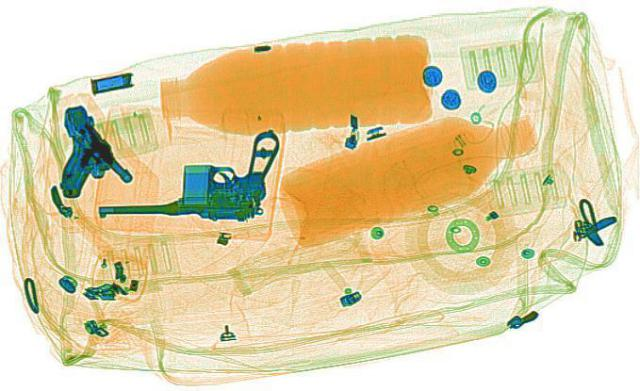Gun: (90, 128, 286, 223), (3, 98, 143, 199)
